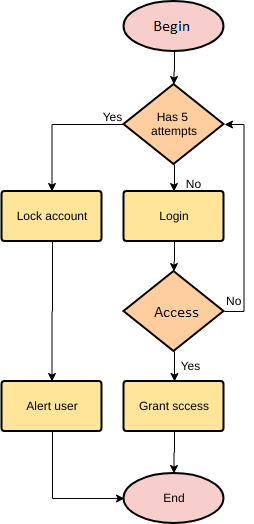arrow: (47, 119, 125, 191), (48, 433, 125, 503), (221, 119, 248, 314), (47, 242, 56, 378), (169, 50, 181, 85), (170, 432, 180, 473), (169, 238, 179, 272), (167, 162, 179, 188), (170, 350, 179, 380)
decision: (122, 270, 224, 351), (123, 84, 224, 165)
process: (121, 379, 227, 434), (1, 189, 105, 245), (2, 377, 104, 434), (121, 189, 226, 244)
terminator: (119, 1, 225, 51), (123, 471, 225, 522)
text: (149, 110, 198, 138), (14, 209, 90, 223), (137, 399, 210, 413), (24, 399, 81, 412), (153, 305, 200, 319), (151, 19, 191, 35), (156, 208, 191, 223), (160, 490, 187, 504), (101, 110, 126, 123), (179, 359, 201, 373), (222, 293, 241, 306), (183, 177, 203, 188)
